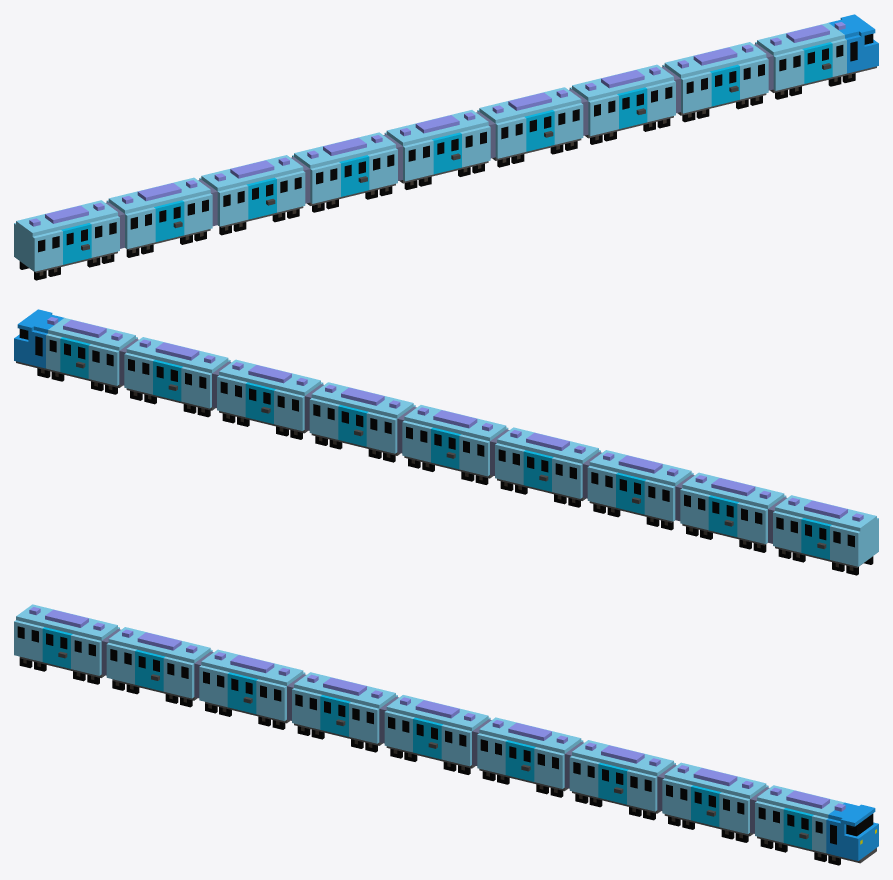
File: trainBlue.obj
The picture shows the model from 3 angles, top to bottom: view 1: azimuth 30°, elevation 25°; view 2: azimuth 150°, elevation 25°; view 3: azimuth 330°, elevation 25°; orthographic projection.
Bounding box in the file's own units: 23.7 × 1.4 × 1.2.
Materials: 1 (1 with a texture image).
